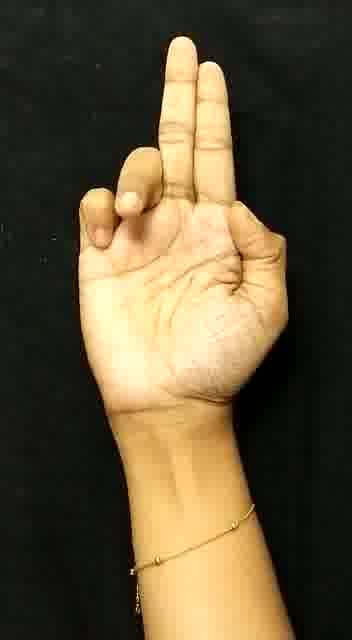ardhpataka: (61, 26, 322, 424)
